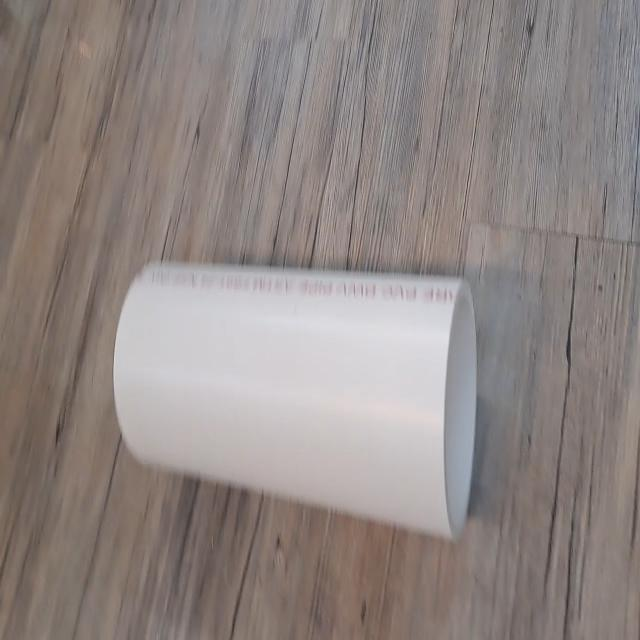CORAL: (102, 250, 488, 550)
